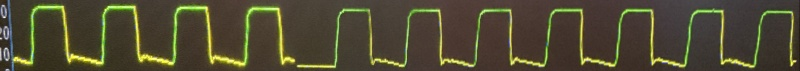normal_pressure: (15, 0, 800, 71)
